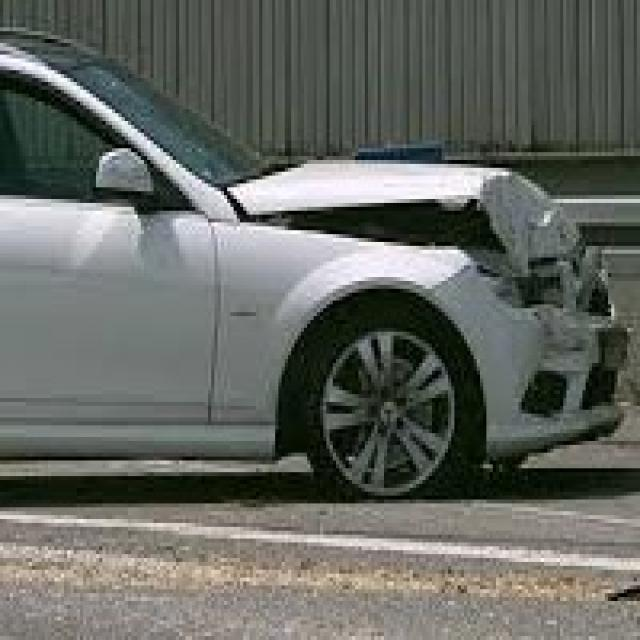moderate: (183, 107, 640, 360)
